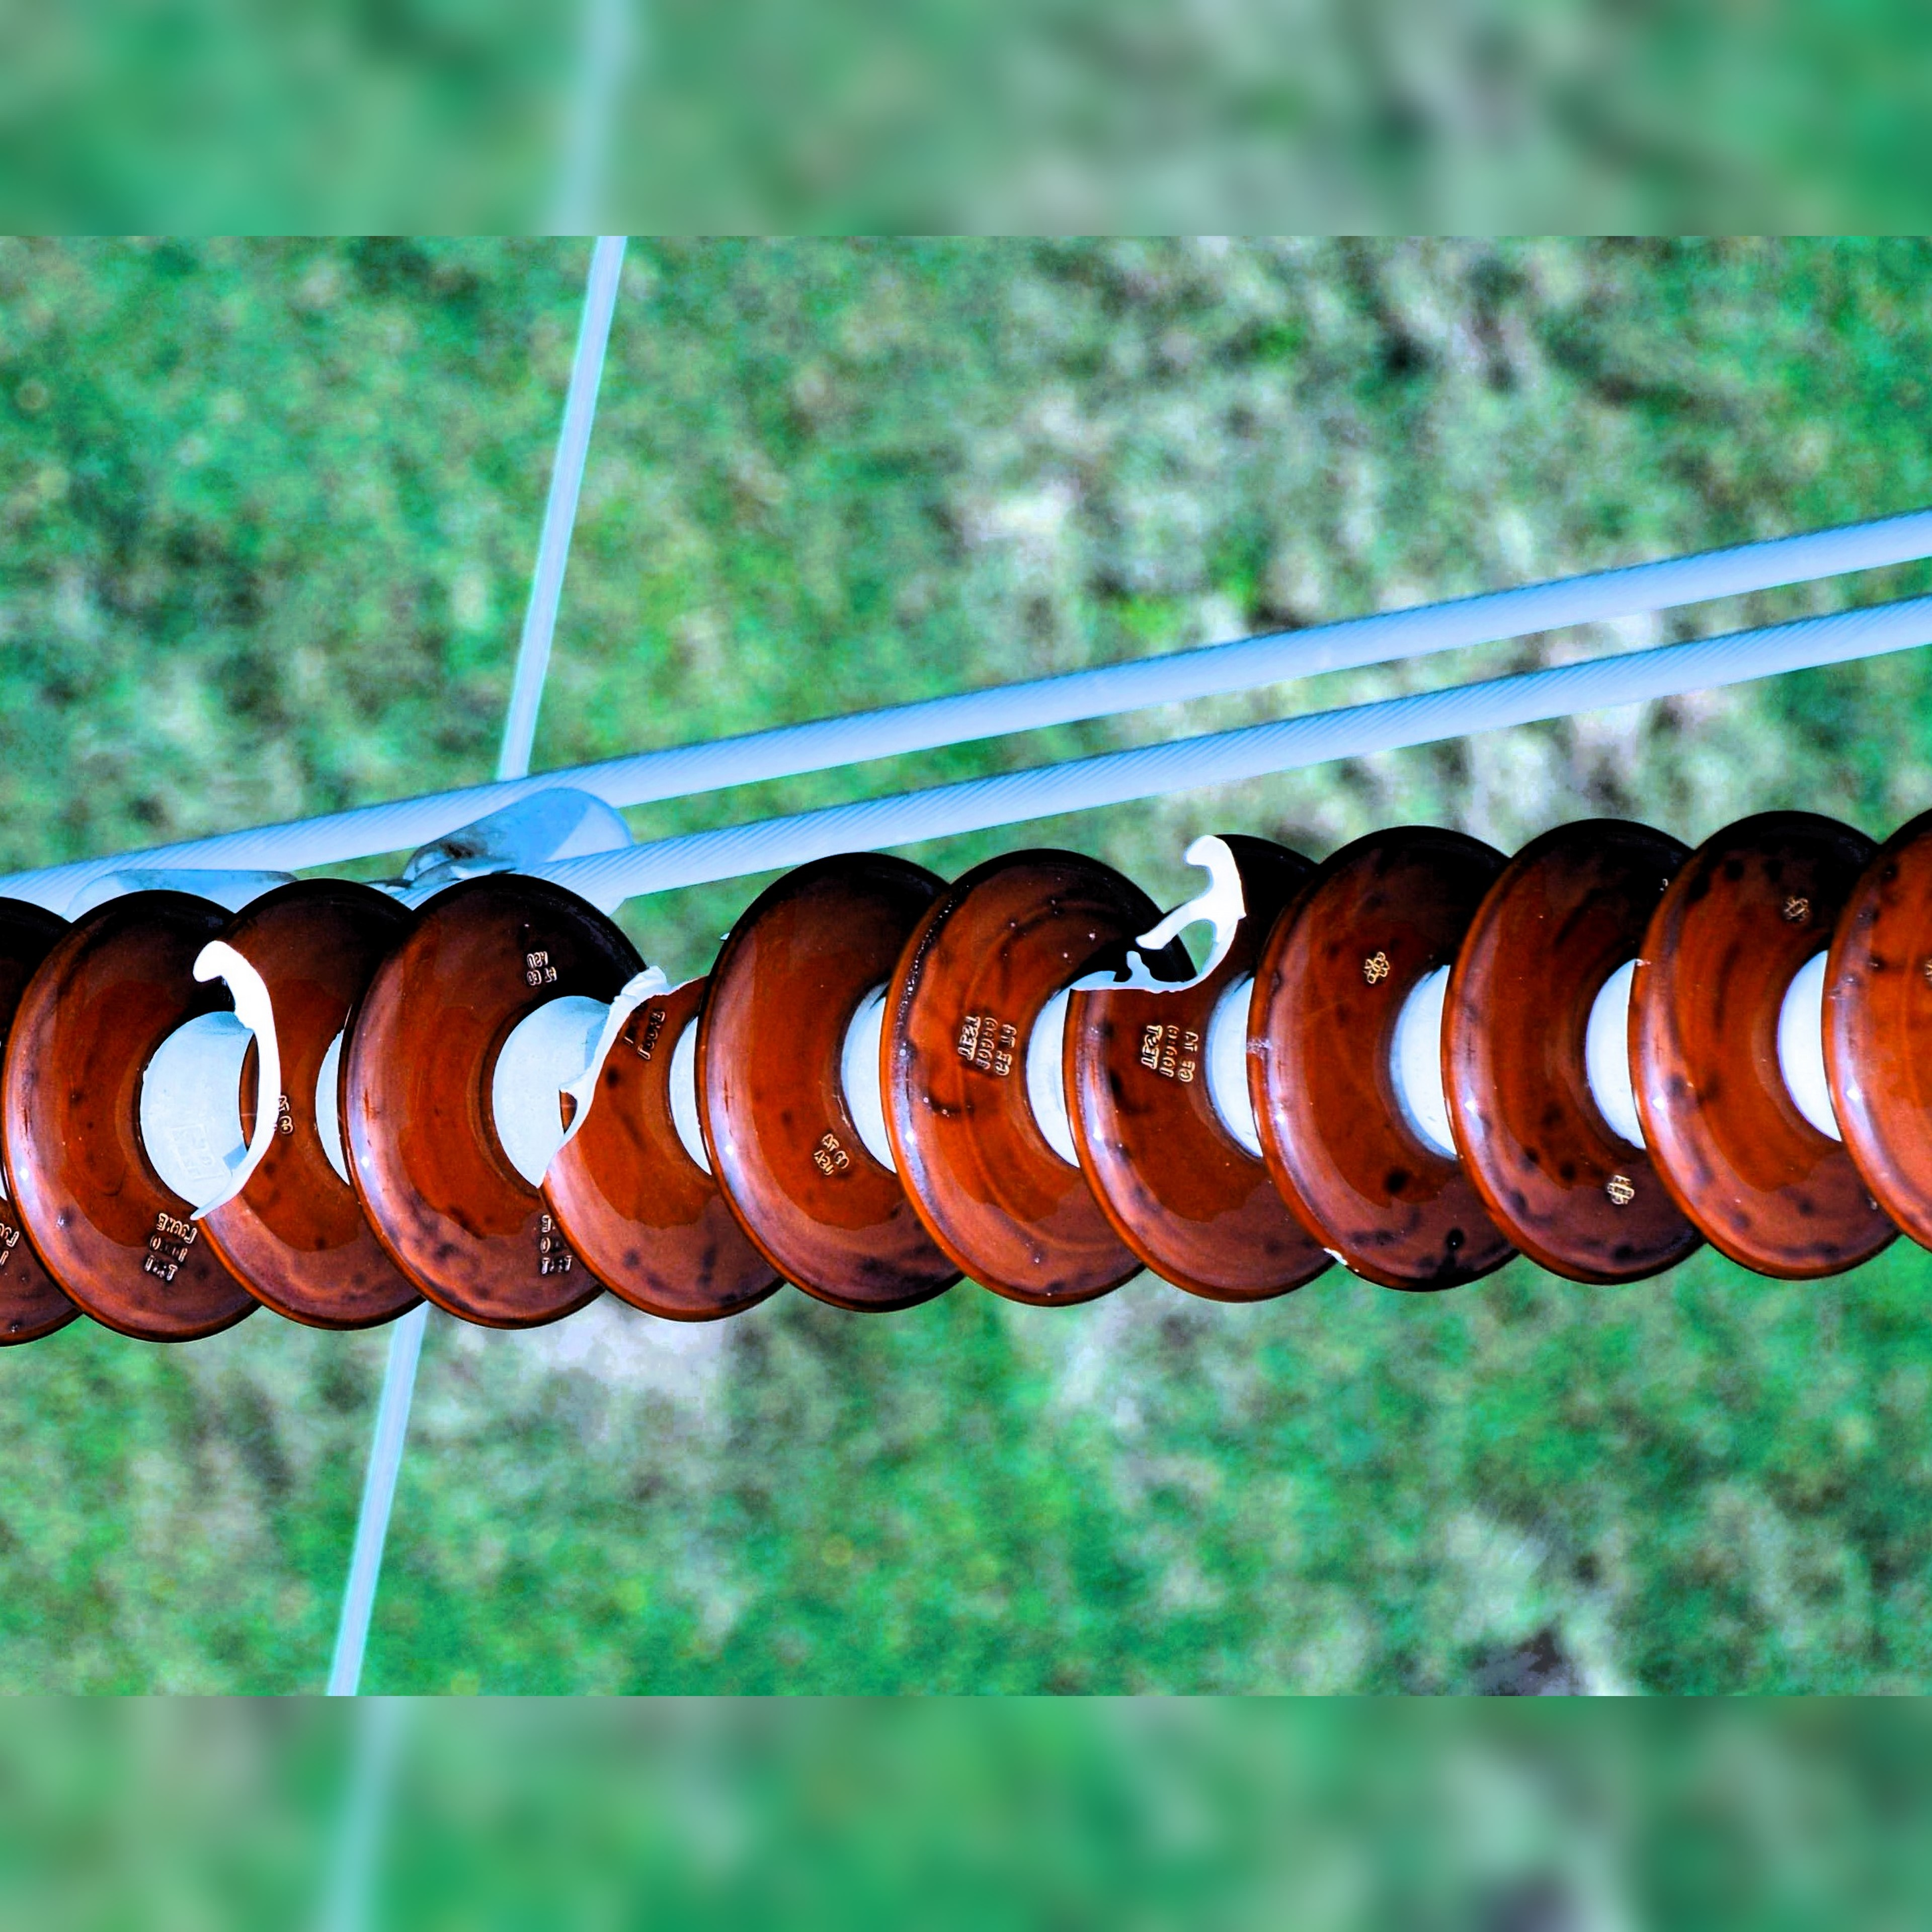insulator breakage: (1051, 824, 1364, 1315), (168, 872, 430, 1343), (529, 899, 794, 1325)
